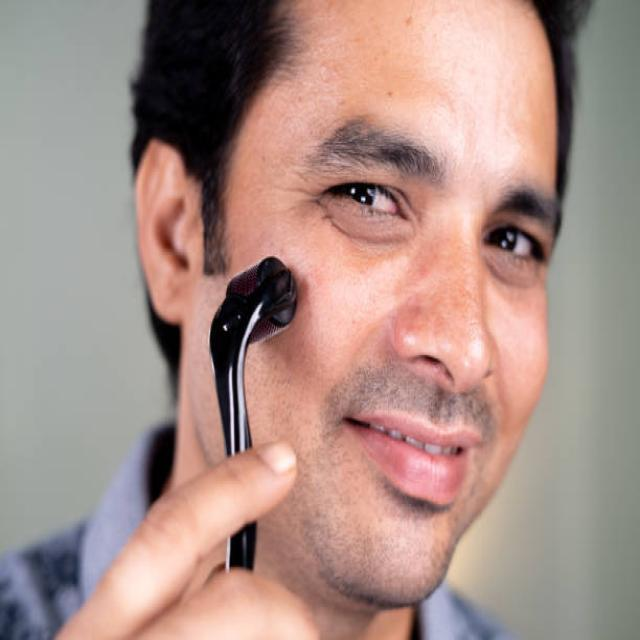dry: (326, 424, 478, 557), (264, 4, 334, 222), (428, 74, 532, 188), (394, 138, 494, 234), (356, 0, 416, 129), (515, 308, 566, 432), (318, 293, 422, 342)
